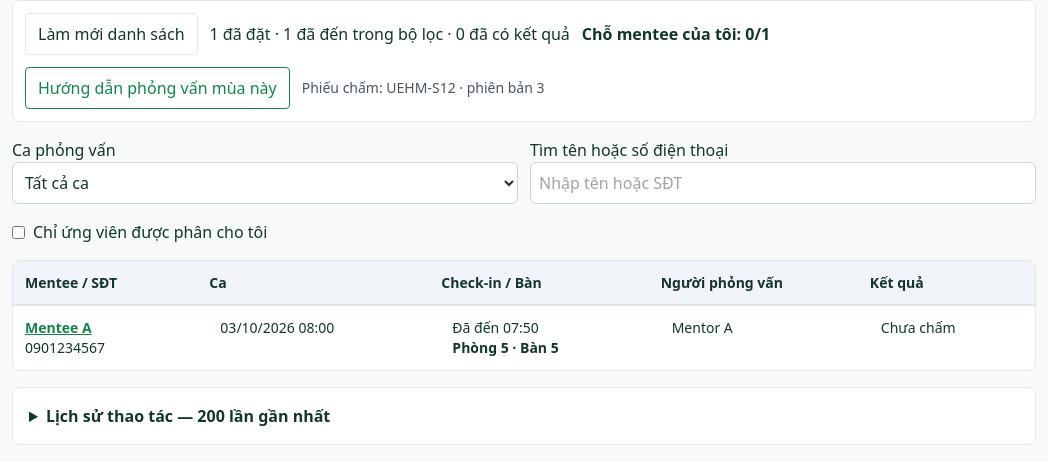
Test case: tìm số điện thoại +84 để check-in thủ công
In the field labelled "Tìm tên hoặc số điện thoại": (783, 183) [530,162,1036,204], type "+84 901 234 567"
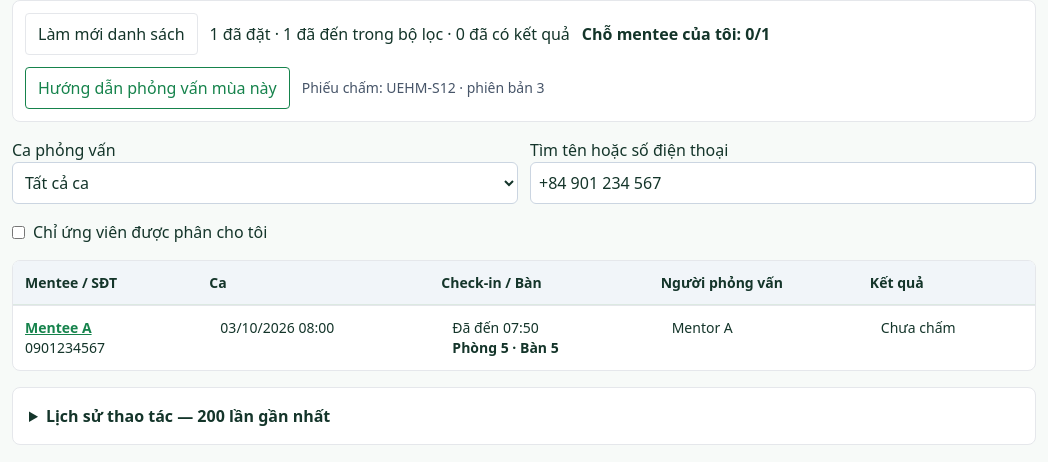
Check: the button "Mentee A" is shown, box [25,318,92,338]
Replace the text in the field labelled "Tìm tên hoặc số điện thoại" with "0999999999": (783, 183) [530,162,1036,204]
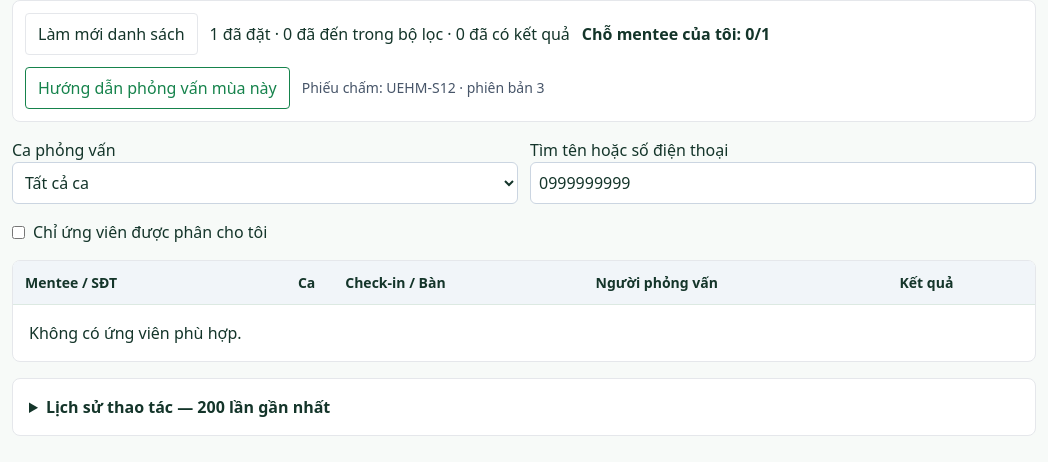
Check: the button "Mentee A" is gone
